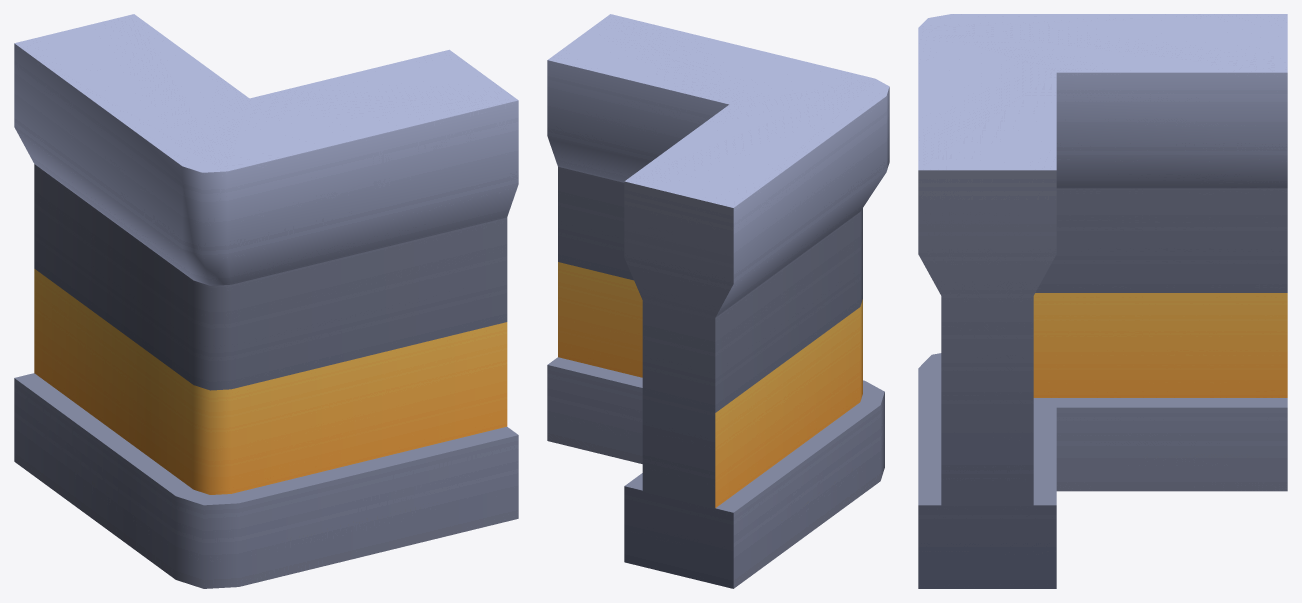
Rendered from wall-corner-banner.glb.
3 renders of one model, left to right at view 1: azimuth 30°, elevation 25°; view 2: azimuth 150°, elevation 25°; view 3: azimuth 270°, elevation 25°, orthographic. The views are drawn at different scales.
Parts seen in each view (by area): view 1: wall-corner-banner; view 2: wall-corner-banner; view 3: wall-corner-banner.
Part boxes in pixels (x1,y1,x2,y2): wall-corner-banner: (14, 14, 518, 588); wall-corner-banner: (547, 14, 889, 588); wall-corner-banner: (918, 14, 1287, 588).
Size of the model in its own units: 0.8 by 1 by 0.8.
1 material, 1 textured.
